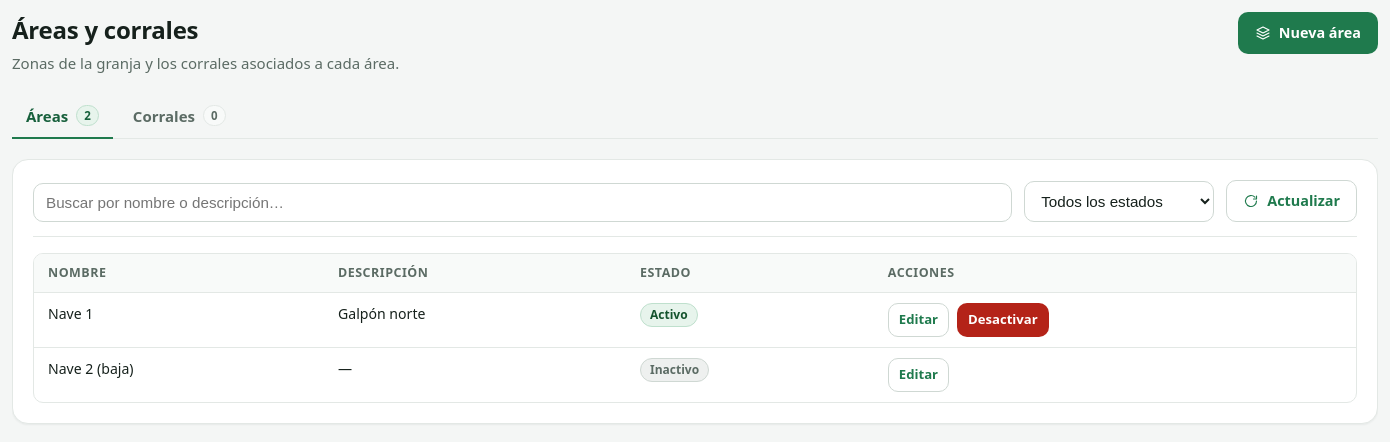
AreasPensPage: listado de areas › filtra por estado y por texto
The width and height of the screenshot is (1390, 442).
Expected: the text "Nave 1" is shown, [34, 293, 324, 348]
Select "Solo inactivas" in the dropdown named "Filtrar por estado" at {"x": 1119, "y": 201}, box [1024, 181, 1214, 222]
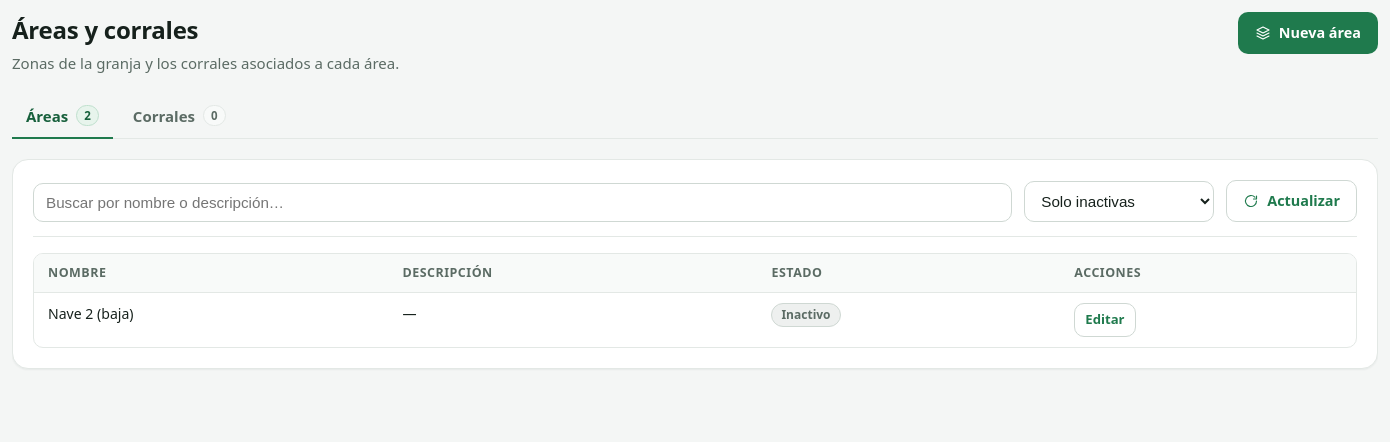
Expected: the text "Nave 2 (baja)" is shown, [34, 293, 388, 347]
Expected: the text "Nave 1" is gone
Select "Todos los estados" in the dropdown named "Filtrar por estado" at {"x": 1119, "y": 201}, box [1024, 181, 1214, 222]
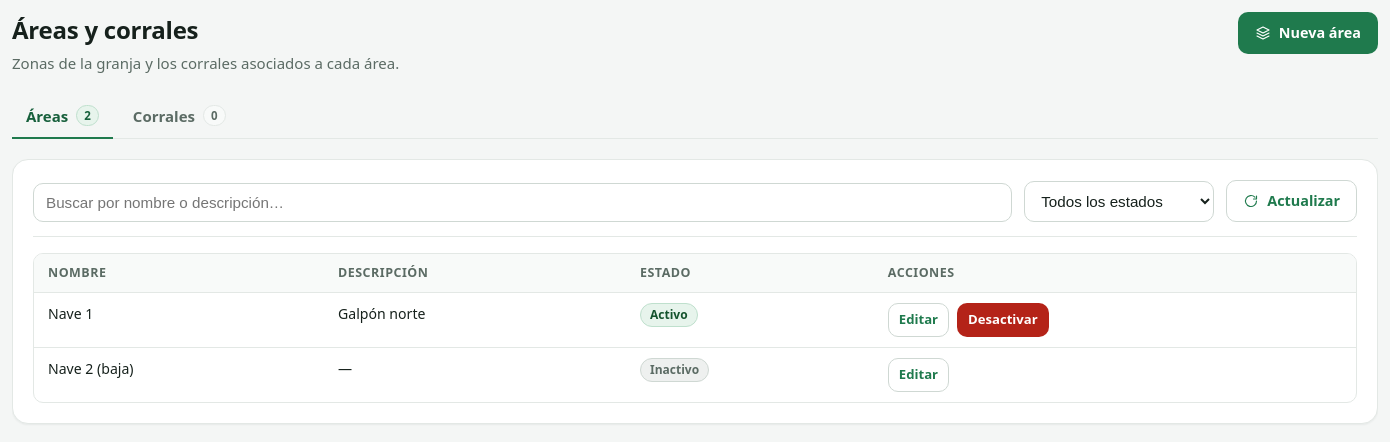
Type "norte" into the search field named "Buscar área" at {"x": 523, "y": 202}, box [33, 183, 1012, 222]
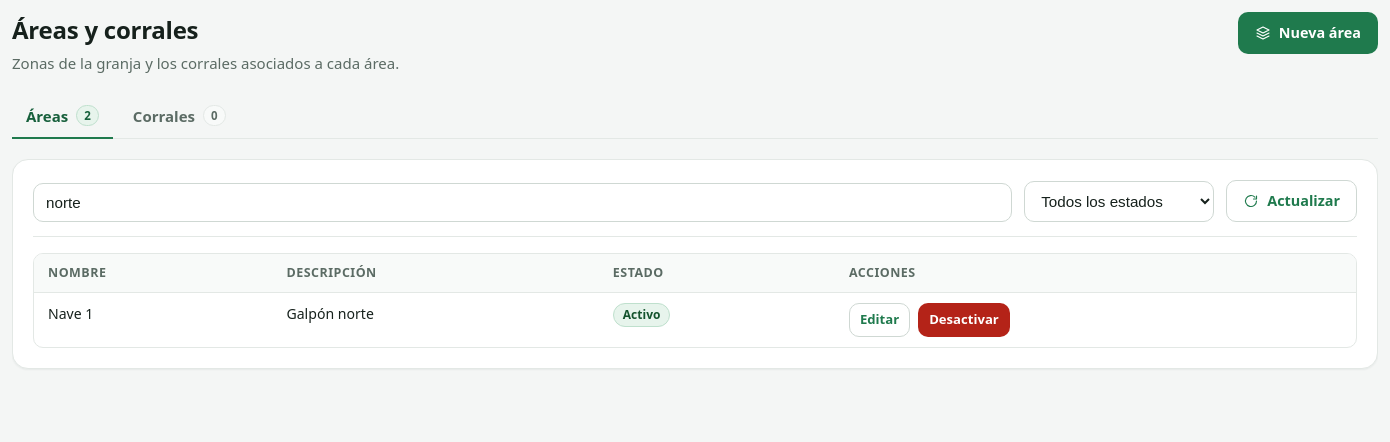
Expected: the text "Nave 1" is shown, [34, 293, 272, 347]
Expected: the text "Nave 2 (baja)" is gone
